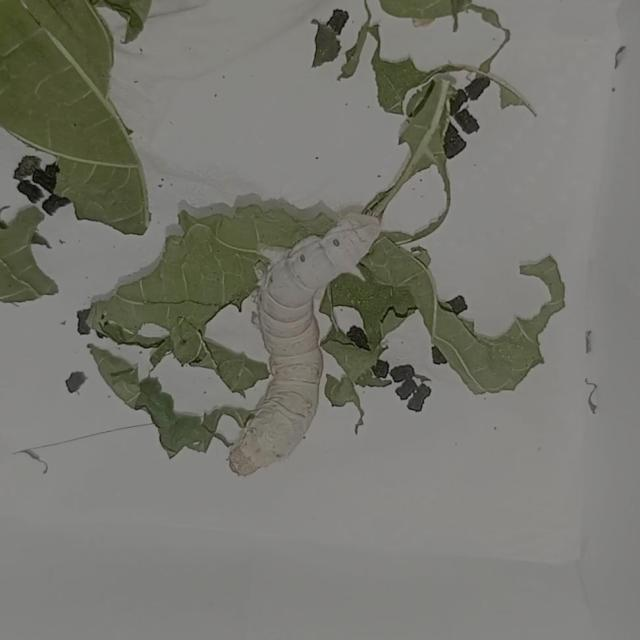Healthy: (212, 202, 424, 490)
